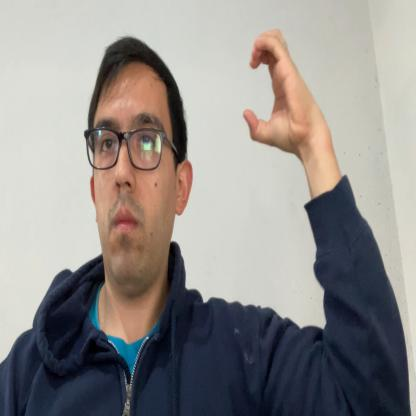C: (242, 25, 317, 147)
